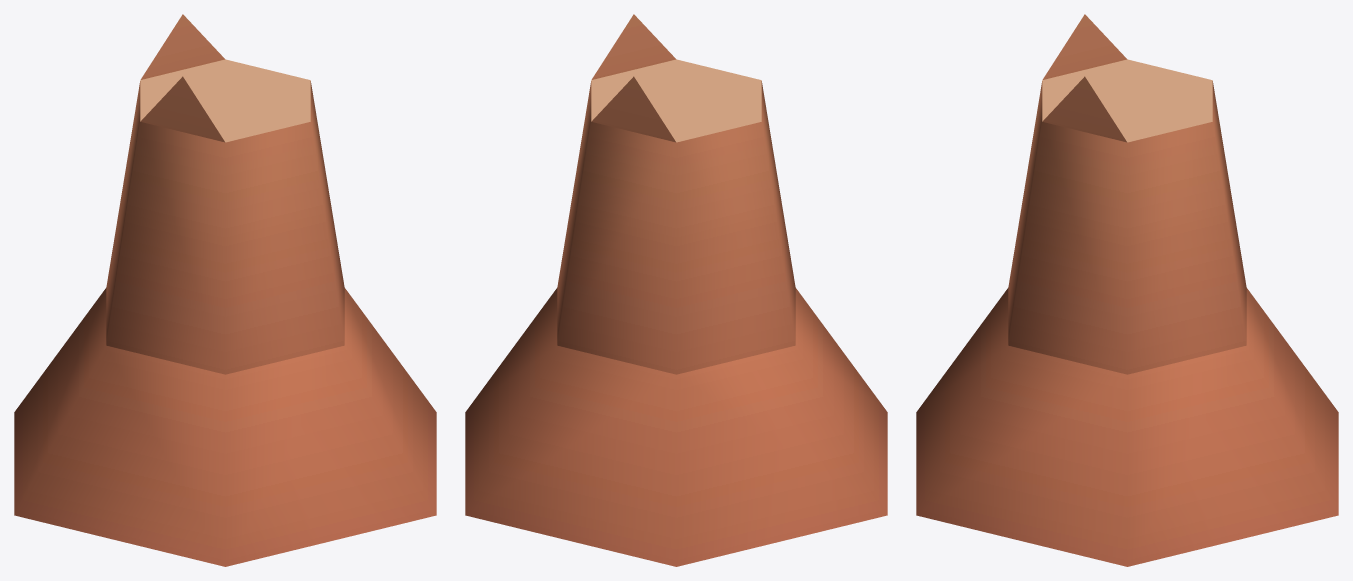
Rendered from tree-trunk.glb.
3 views of the same model, side by side, from view 1: azimuth 30°, elevation 25°; view 2: azimuth 150°, elevation 25°; view 3: azimuth 270°, elevation 25° (orthographic).
Parts seen in each view (by area): view 1: tree-trunk; view 2: tree-trunk; view 3: tree-trunk.
Part boxes in pixels (left/top/right/bottom): tree-trunk: left=14, top=14, right=436, bottom=566; tree-trunk: left=465, top=14, right=887, bottom=566; tree-trunk: left=916, top=14, right=1338, bottom=566.
Size of the model in its own units: 0.396 by 0.3751 by 0.343.
Materials: 1 (1 with a texture image).
